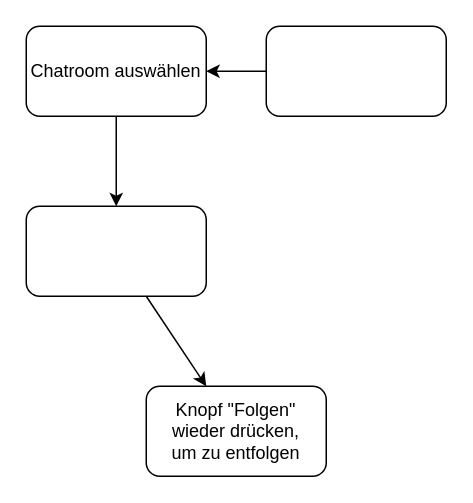
Some shapes in this 473 by 503 pixel diagram are drawn without their labels. Here are the shapes that lost their labels. From the top down, the box of each, then its label:
(265, 25, 446, 116): Mit Link zum Chatroom
(25, 205, 206, 296): Knopf "Folgen" drücken
